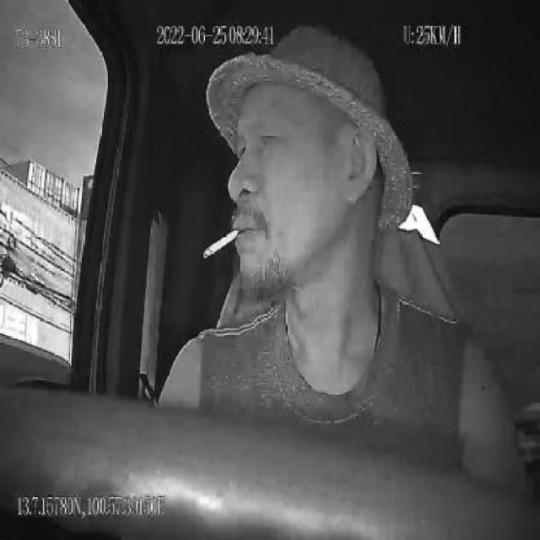smoking: (201, 226, 240, 258)
